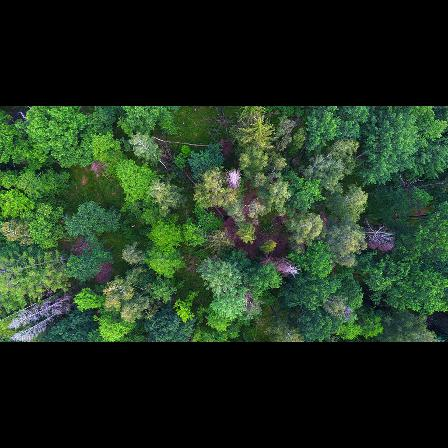Dead: (10, 294, 74, 328), (14, 304, 72, 340), (359, 217, 397, 255), (273, 258, 299, 281), (223, 167, 245, 189)
